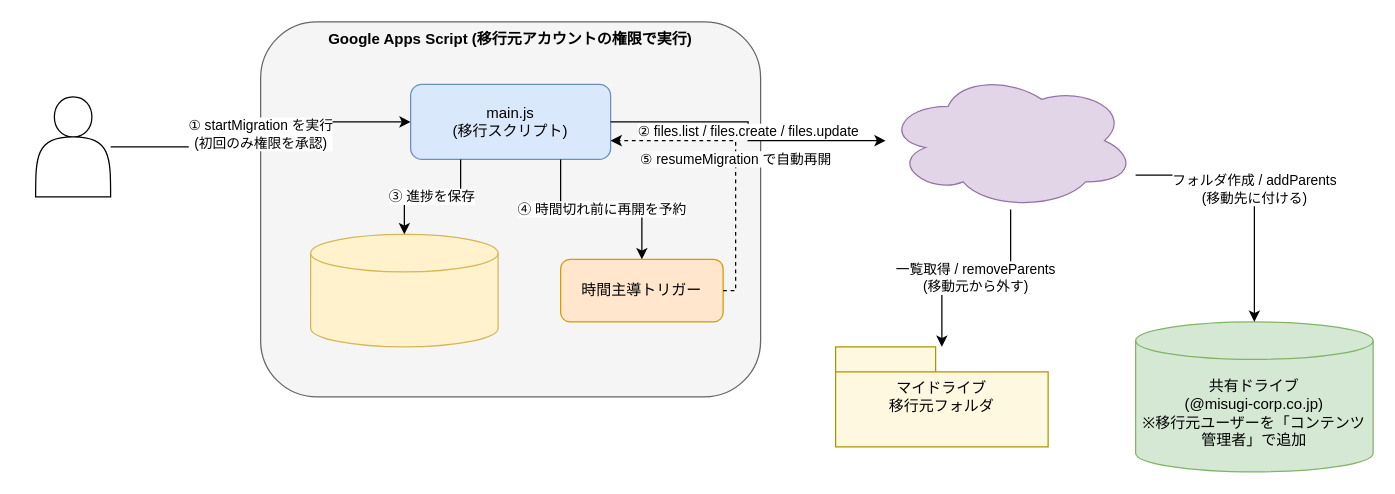
Some shapes in this 1395 by 494 pixel diagram are drawn without their labels. The centre of each missing label's shape, as x and y in pixels:
"Drive API v3 (高度なサービス)" belongs at point (1010, 140).
"スクリプトプロパティ (進捗状態の保存先)" belongs at point (403, 290).
"移行元ユーザー (@google.com)" belongs at point (72, 146).
